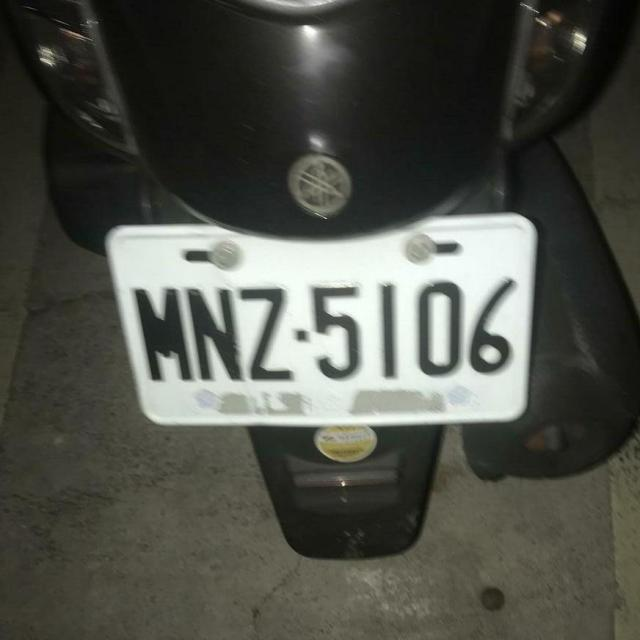W: (94, 182, 555, 459)
